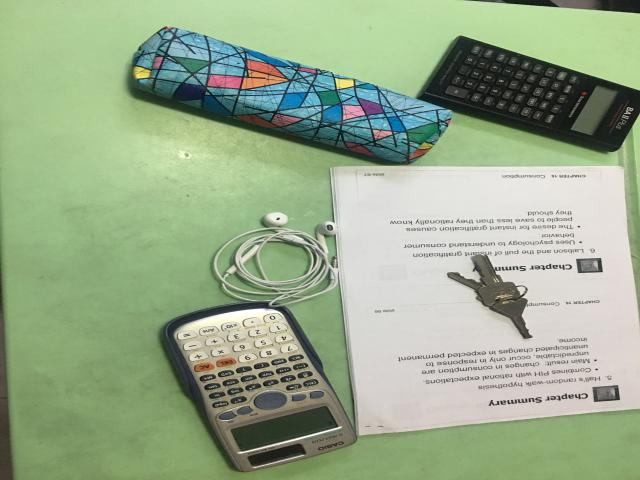Keys: (447, 254, 532, 338)
paper: (332, 166, 638, 435)
wire: (212, 213, 338, 306)
